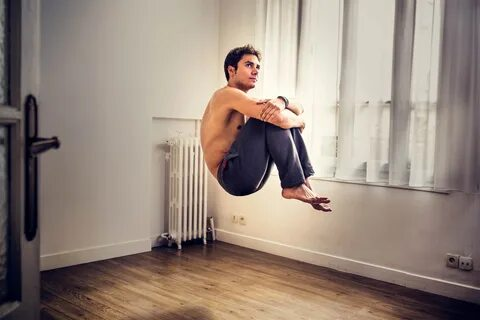awake: (199, 43, 334, 213)
